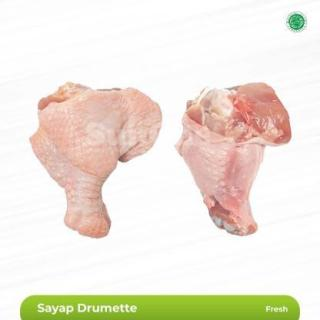Ayam: (32, 82, 163, 239), (176, 85, 292, 236)
